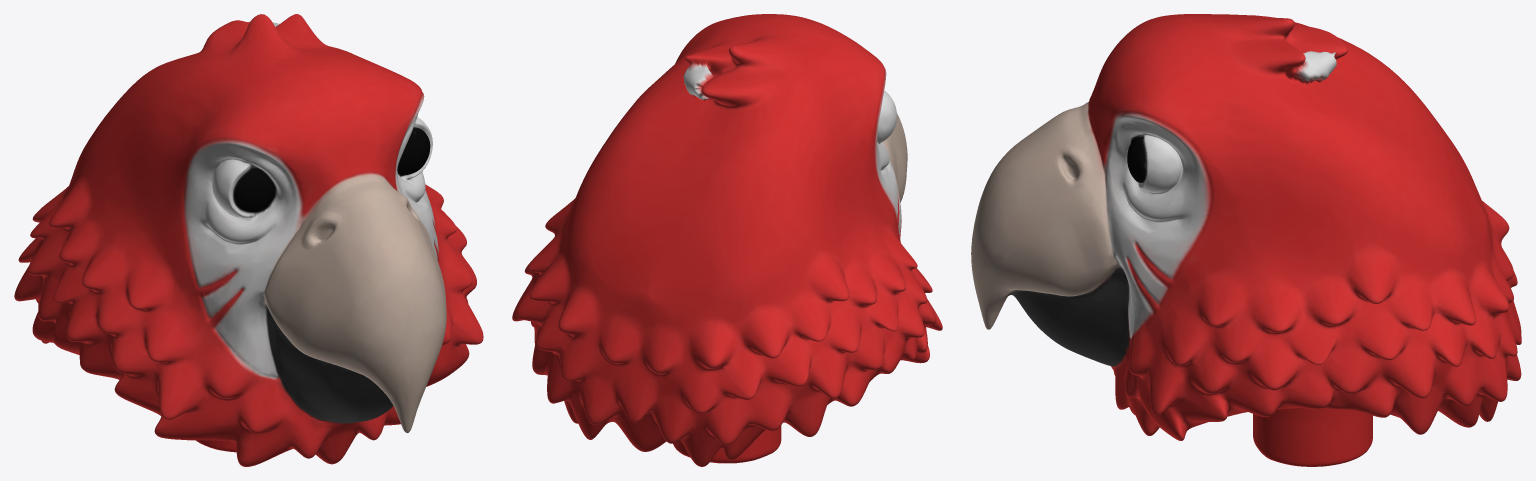
The model's file is Tete_Perroquet.glb.
3 renders of one model, left to right at view 1: azimuth 30°, elevation 25°; view 2: azimuth 150°, elevation 25°; view 3: azimuth 270°, elevation 25°, orthographic. The views are drawn at different scales.
Visible parts, largest first — view 1: Tete_Perroquet; view 2: Tete_Perroquet; view 3: Tete_Perroquet.
Part boxes in pixels (bbox=[...]): Tete_Perroquet: bbox=[14, 14, 483, 466]; Tete_Perroquet: bbox=[512, 14, 942, 466]; Tete_Perroquet: bbox=[971, 14, 1521, 466].
Size of the model in its own units: 4.56 by 4.65 by 5.44.
